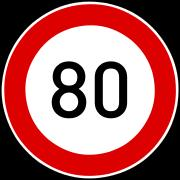Speed Limit -80-: (22, 31, 147, 155)
